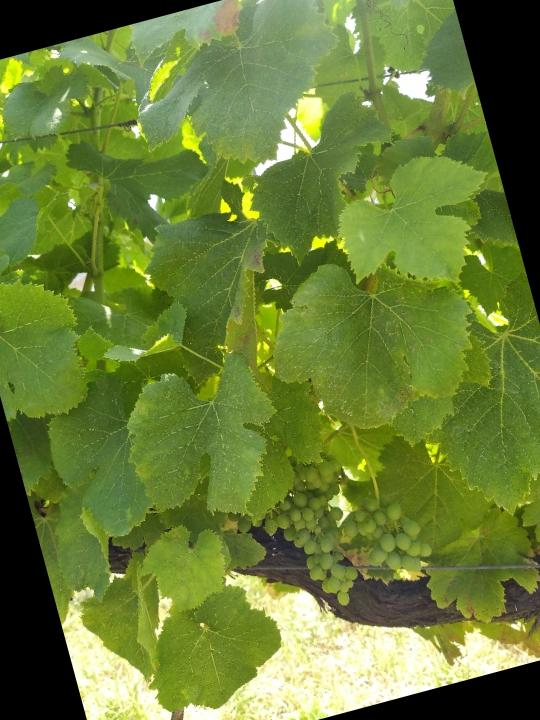grape: (242, 431, 446, 625)
